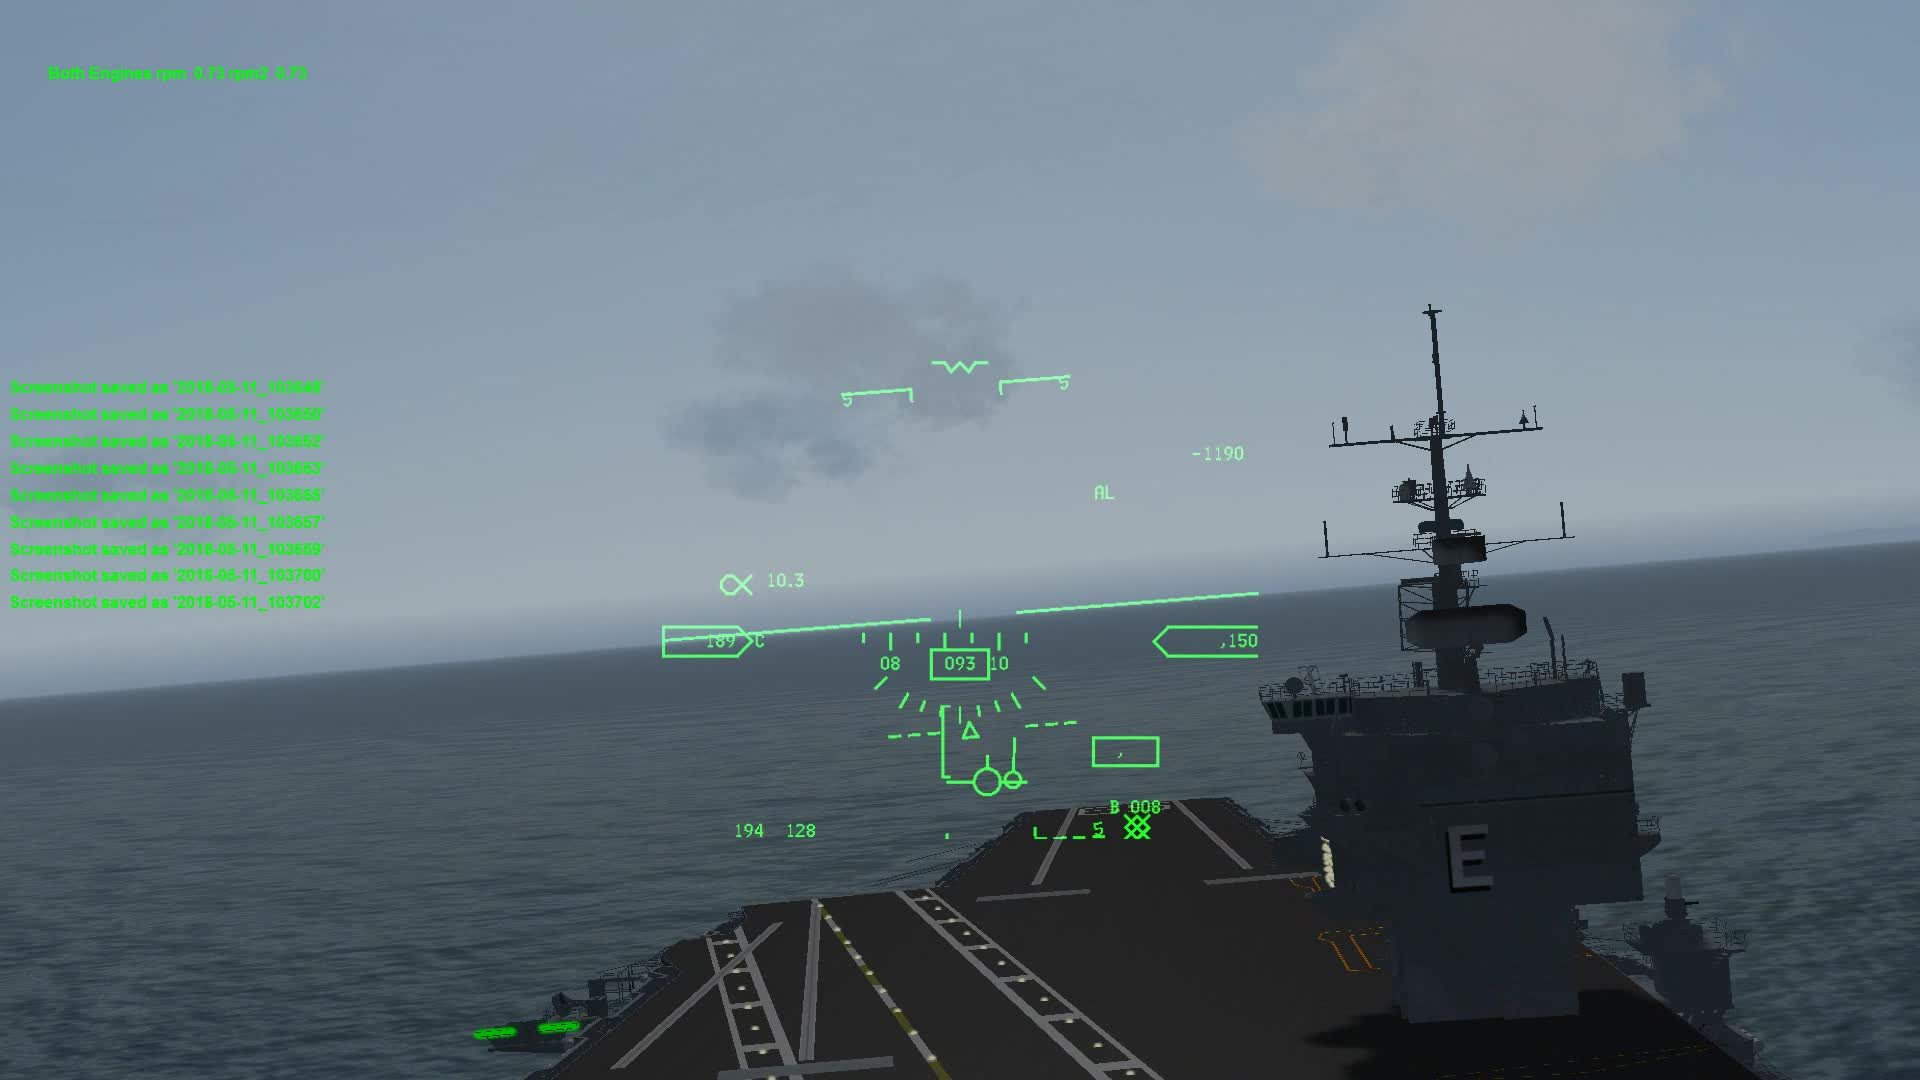speed vector: (942, 748, 1042, 804)
